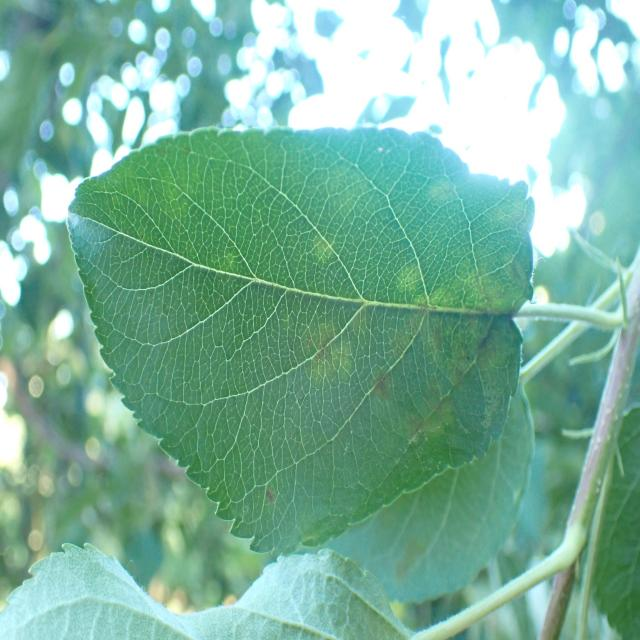scab: (125, 160, 504, 454), (389, 492, 442, 612)
